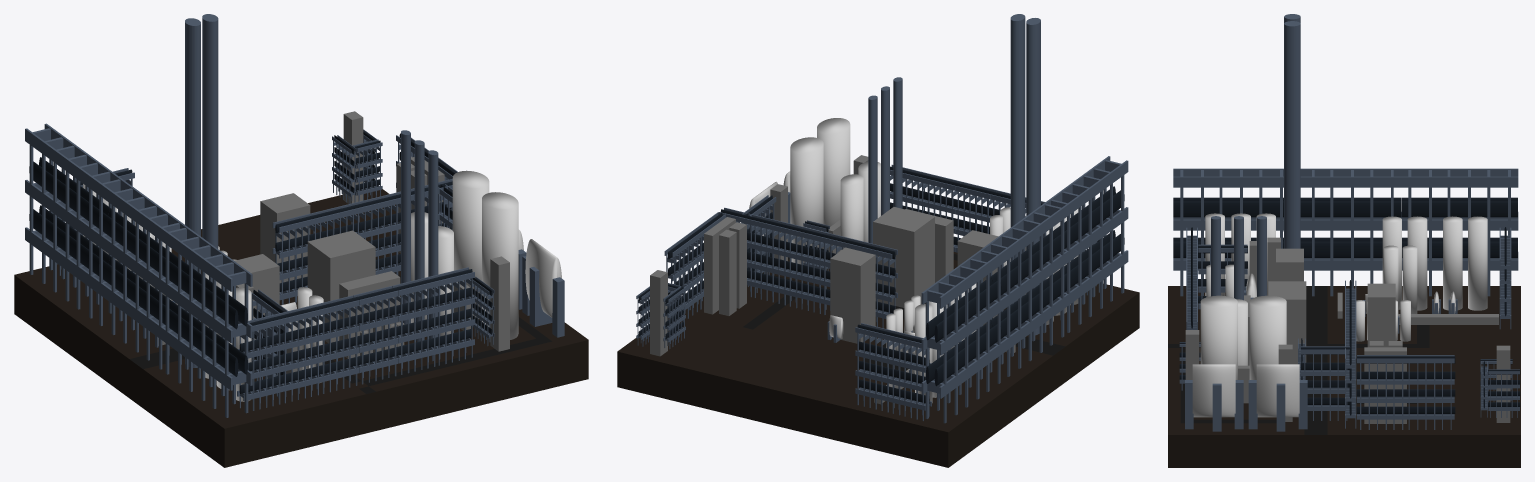
Rendered from Utility_cube.fbx.
3 renders of one model, left to right at view 1: azimuth 30°, elevation 25°; view 2: azimuth 150°, elevation 25°; view 3: azimuth 270°, elevation 25°, orthographic. The views are drawn at different scales.
Parts seen in each view (by area): view 1: Utility_cube; view 2: Utility_cube; view 3: Utility_cube.
Boxes of the visible parts, bbox=[...] form: Utility_cube: bbox=[14, 14, 588, 467]; Utility_cube: bbox=[617, 14, 1139, 467]; Utility_cube: bbox=[1168, 14, 1520, 467].
Bounding box in the file's own units: 100 × 100 × 100.
